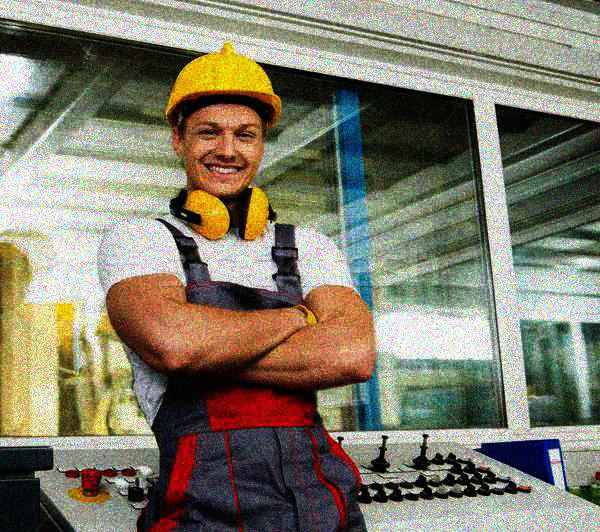helmet: (163, 42, 284, 193)
